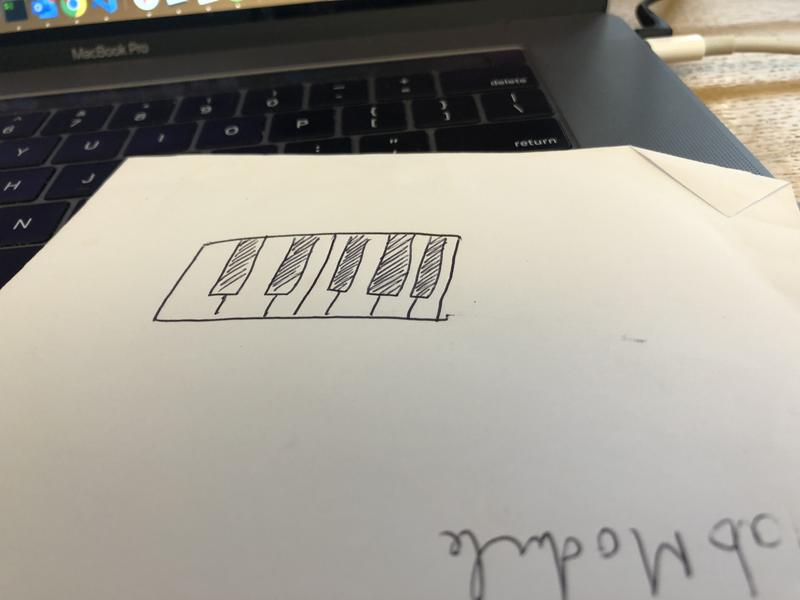piano: (161, 209, 462, 340)
